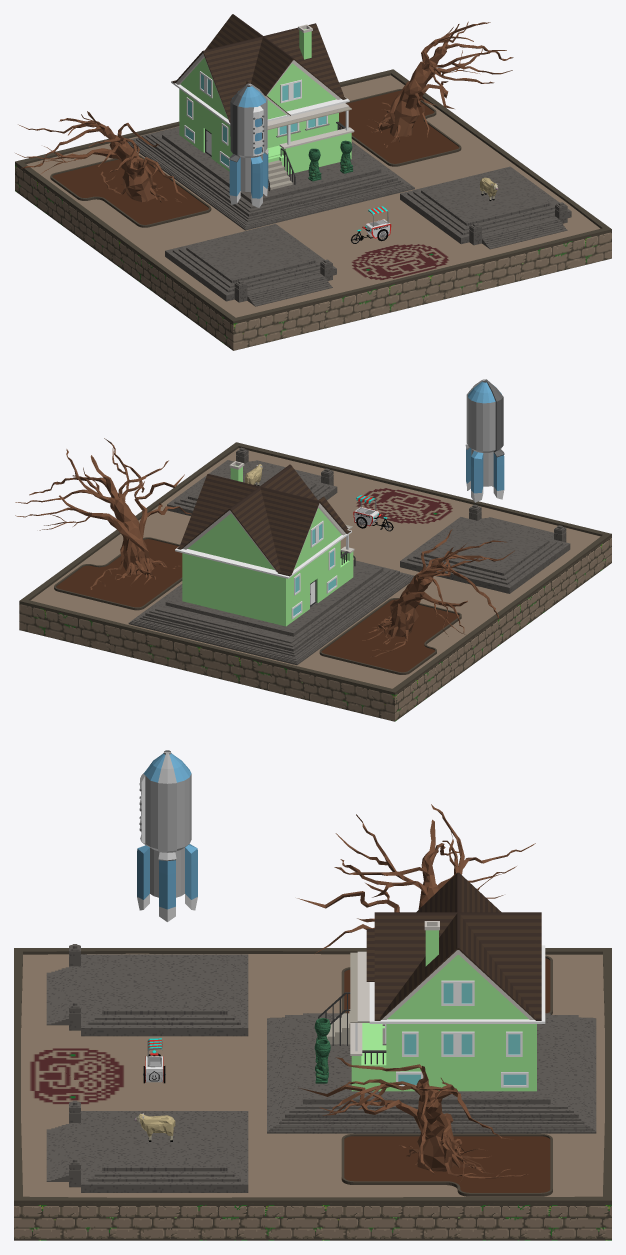
3 views of the same model, one above another, from view 1: azimuth 30°, elevation 25°; view 2: azimuth 150°, elevation 25°; view 3: azimuth 270°, elevation 25° (orthographic). The views are drawn at different scales.
Parts seen in each view (by area): view 1: Cube.011, Cube.274, OBJRANDOM_ROCKETSHIP, VEHICLES_SNOWBAL_BIKE; view 2: Cube.011, Cube.274, OBJRANDOM_ROCKETSHIP, VEHICLES_SNOWBAL_BIKE; view 3: Cube.011, Cube.274, OBJRANDOM_ROCKETSHIP, VEHICLES_SNOWBAL_BIKE, ANIMAL_OVEJA.
Part boxes in pixels (left/top/right/bottom): Cube.011: left=15, top=21, right=611, bottom=350; Cube.274: left=171, top=14, right=354, bottom=191; OBJRANDOM_ROCKETSHIP: left=229, top=83, right=268, bottom=207; VEHICLES_SNOWBAL_BIKE: left=351, top=206, right=391, bottom=243; Cube.011: left=15, top=438, right=611, bottom=721; Cube.274: left=175, top=461, right=355, bottom=626; OBJRANDOM_ROCKETSHIP: left=465, top=379, right=504, bottom=502; VEHICLES_SNOWBAL_BIKE: left=353, top=495, right=393, bottom=531; Cube.011: left=14, top=804, right=611, bottom=1240; Cube.274: left=318, top=872, right=545, bottom=1091; OBJRANDOM_ROCKETSHIP: left=137, top=750, right=197, bottom=921; VEHICLES_SNOWBAL_BIKE: left=143, top=1038, right=165, bottom=1083; ANIMAL_OVEJA: left=135, top=1113, right=175, bottom=1141.
Bounding box in the file's own units: 5099 × 2192 × 4000.
Materials: 37 (5 with a texture image).
